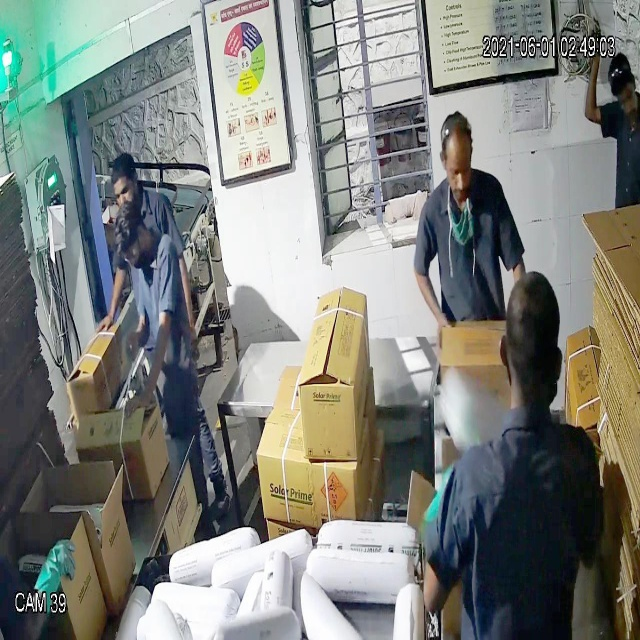Sin_gafas: (432, 150, 481, 187)
